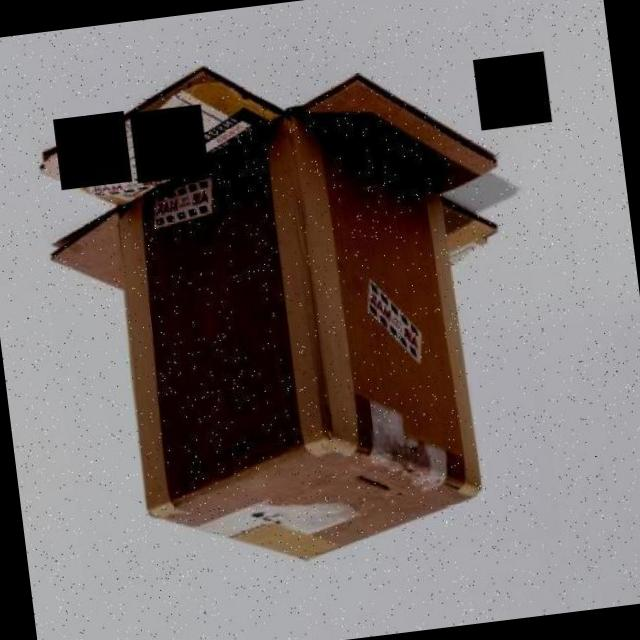box: (24, 29, 563, 594)
